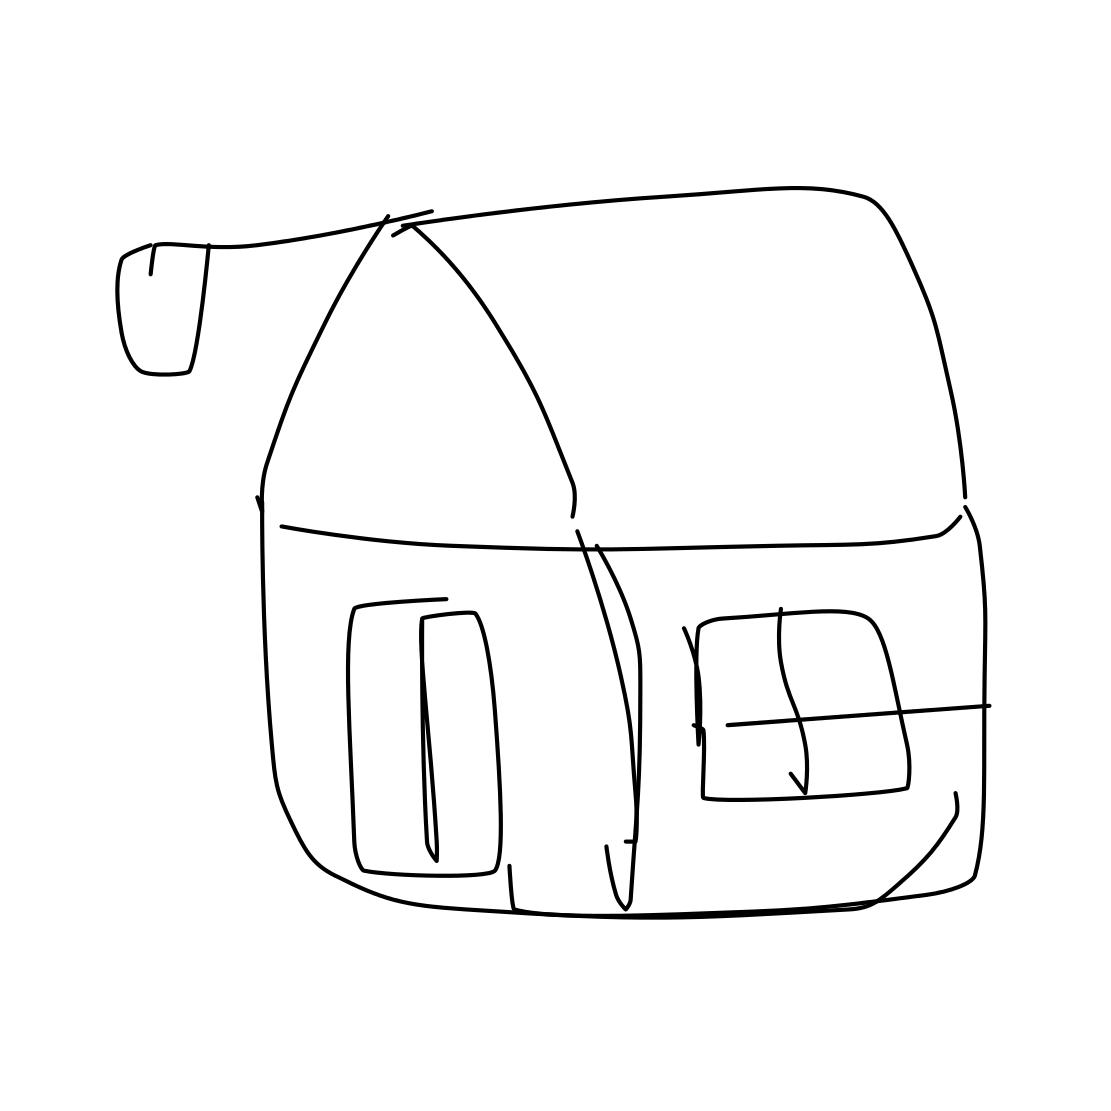House: (238, 152, 1019, 948)
